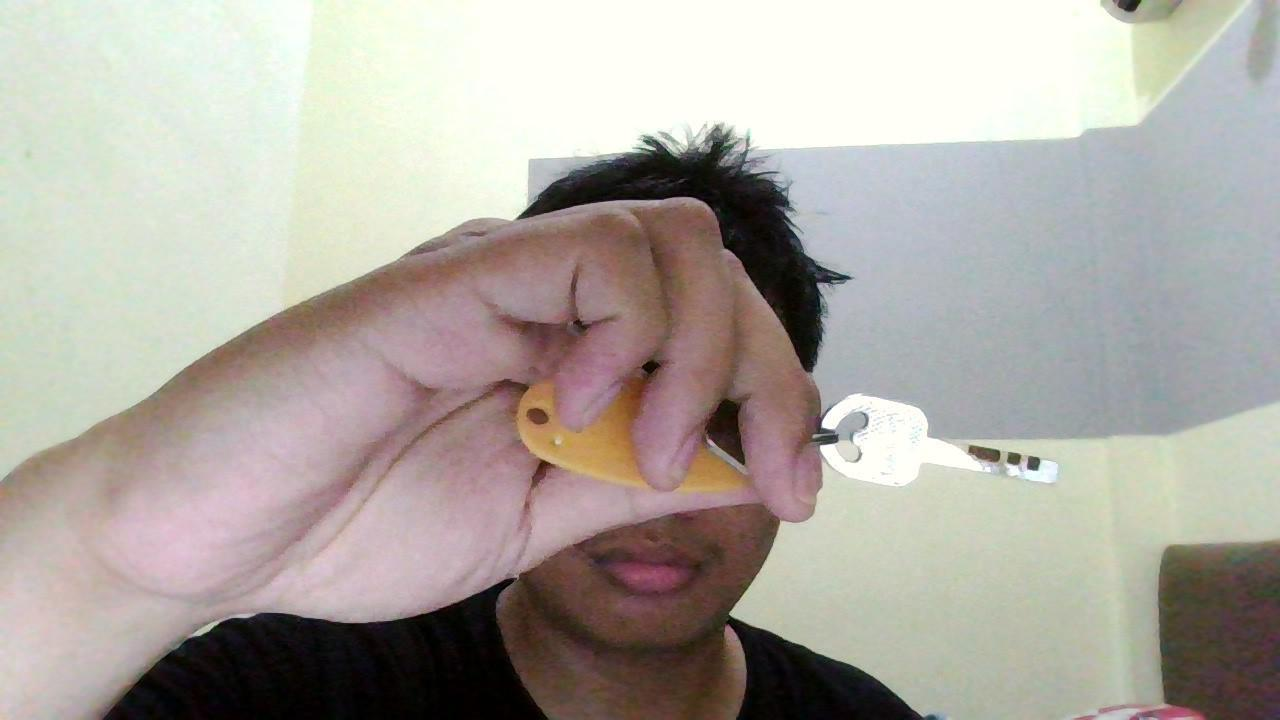keys: (811, 375, 1063, 508)
